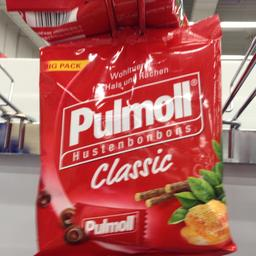candy: (44, 30, 228, 252)
